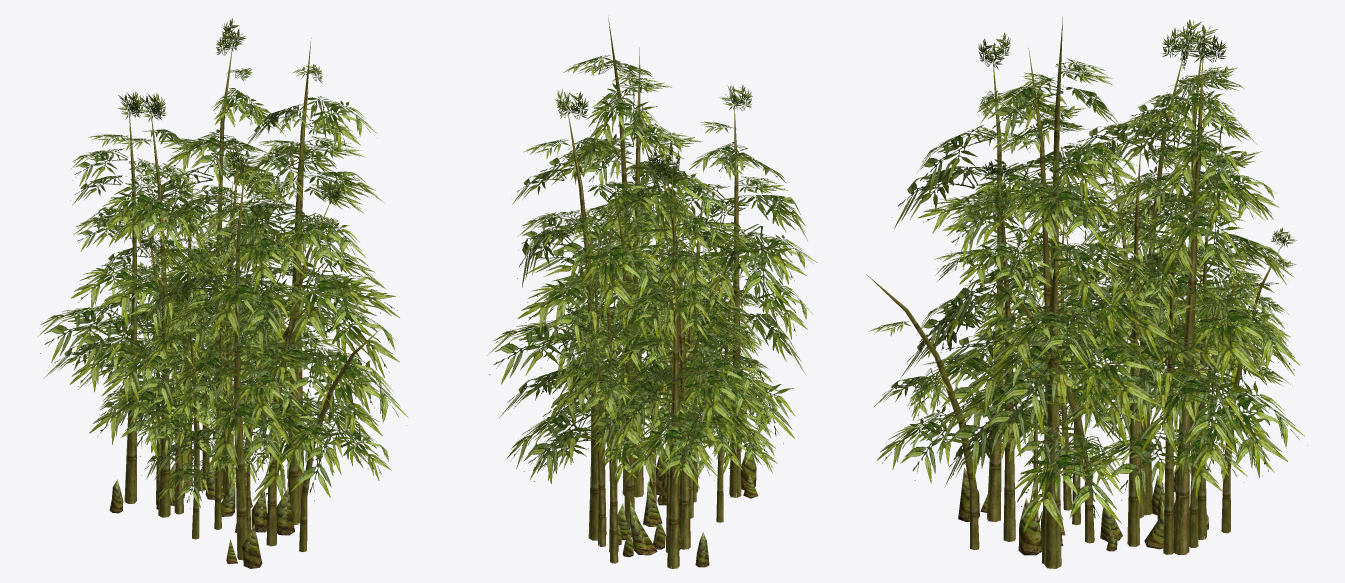
File: S_Tree_Green004.FBX
The picture shows the model from 3 angles, left to right: view 1: azimuth 30°, elevation 25°; view 2: azimuth 150°, elevation 25°; view 3: azimuth 270°, elevation 25°; orthographic projection. The views are drawn at different scales.
Visible parts, largest first — view 1: S_Tree_Green004; view 2: S_Tree_Green004; view 3: S_Tree_Green004.
Part boxes in pixels (x1,y1,x2,y2): S_Tree_Green004: (38,18,408,568); S_Tree_Green004: (487,18,817,568); S_Tree_Green004: (866,17,1307,568).
Bounding box in the file's own units: 730 × 748 × 998.
